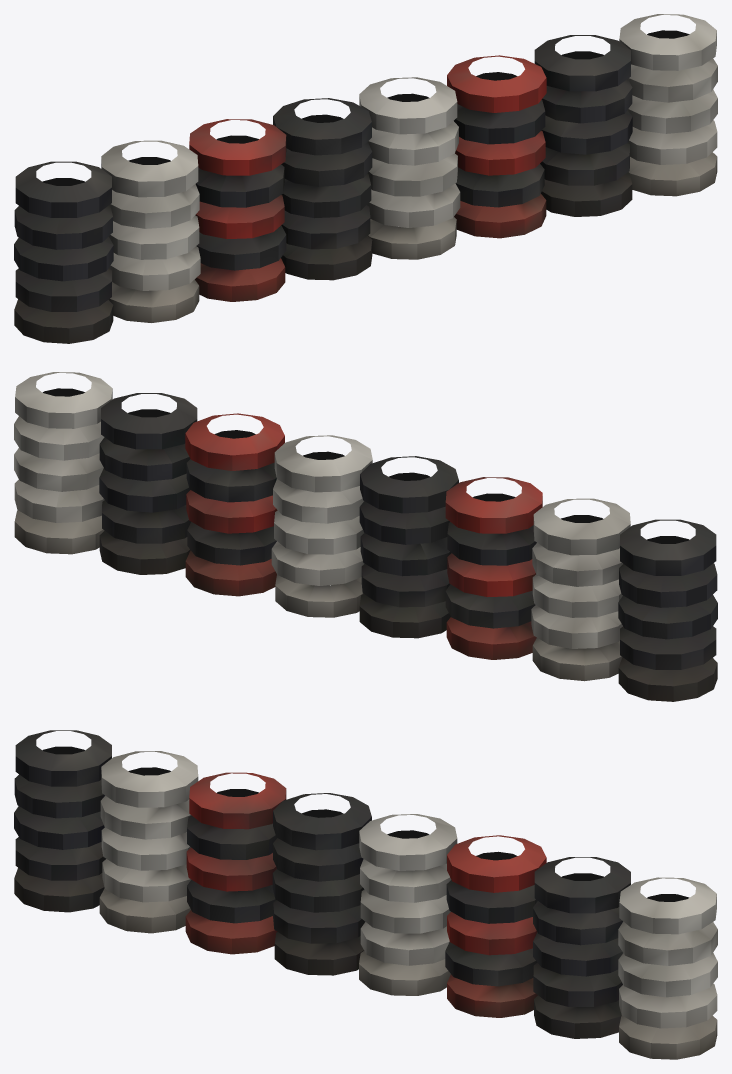
The model's file is tire_wall.glb.
3 renders of one model, top to bottom at view 1: azimuth 30°, elevation 25°; view 2: azimuth 150°, elevation 25°; view 3: azimuth 330°, elevation 25°, orthographic.
Parts seen in each view (by area): view 1: TireWall; view 2: TireWall; view 3: TireWall.
Boxes of the visible parts, box(x1,y1,x2,y2) form: TireWall: box(14, 14, 717, 343); TireWall: box(14, 372, 717, 701); TireWall: box(14, 730, 717, 1059).
Size of the model in its own units: 6 by 1.3 by 0.75.
